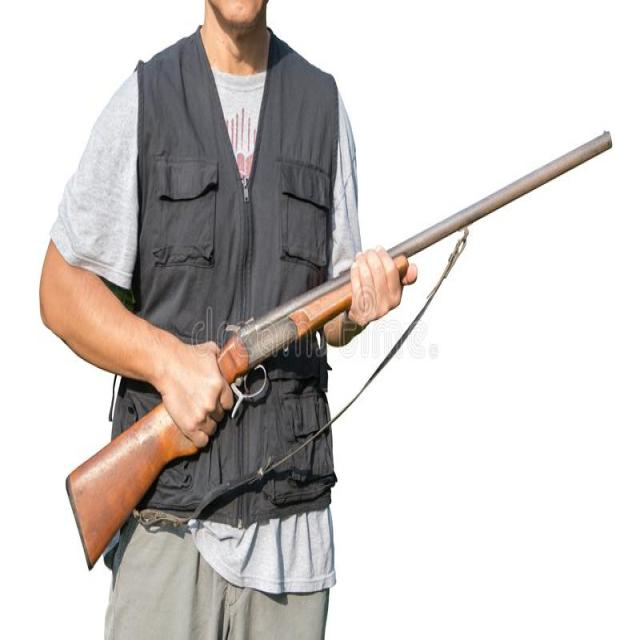ShotGun: (66, 130, 614, 565)
